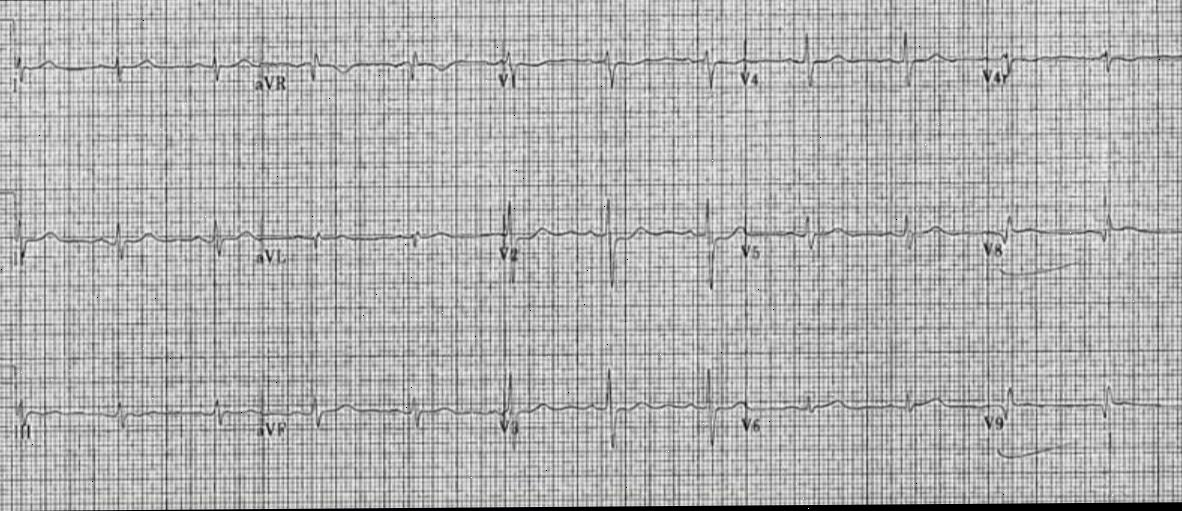Lead_I: (10, 194, 248, 287), (10, 33, 252, 122)
Lead_II: (16, 366, 252, 454)
Lead_V1: (496, 21, 743, 119)
Lead_V2: (494, 187, 738, 288)
Lead_V3: (499, 364, 740, 459)
Lead_V4: (742, 14, 985, 119)
Lead_V5: (737, 187, 979, 294)
Lead_V6: (740, 358, 982, 464)
Lead_aVF: (250, 367, 494, 459)
Lead_aVL: (250, 187, 492, 290)
Lead_aVR: (252, 28, 496, 126)
